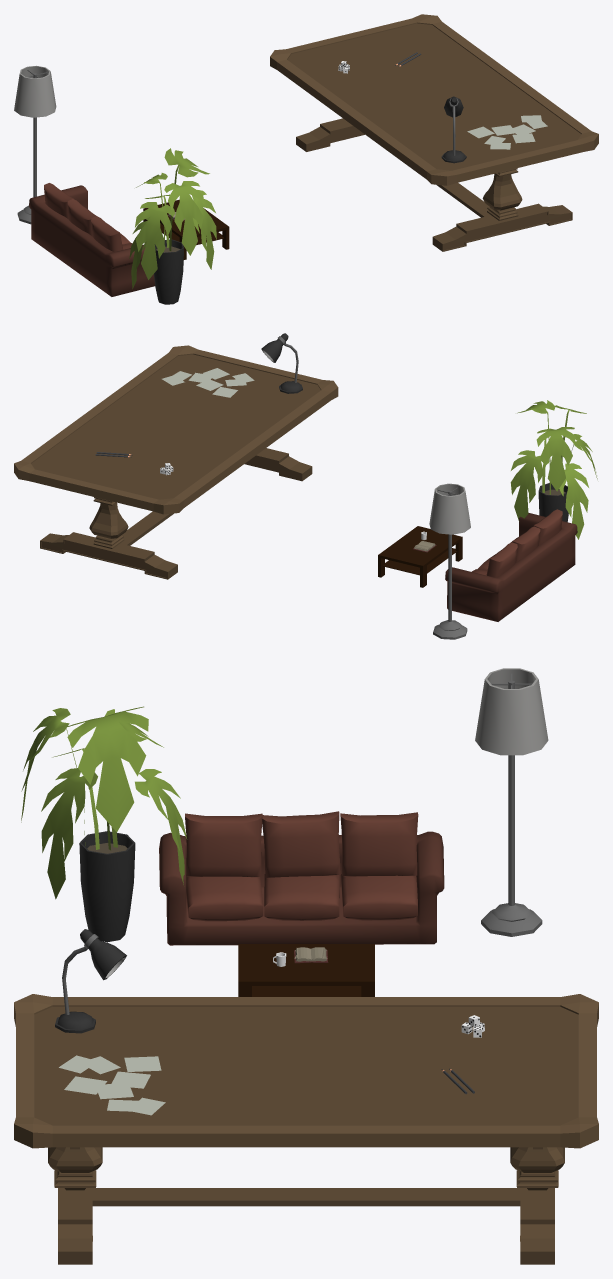
Rendered from envoirment3.0.glb.
3 views of the same model, one above another, from view 1: azimuth 30°, elevation 25°; view 2: azimuth 150°, elevation 25°; view 3: azimuth 270°, elevation 25° (orthographic). The views are drawn at different scales.
Parts seen in each view (by area): view 1: Table2, Couch_Large1, Houseplant_7, Light_Stand1, Debris_Papers_2, Plane, Light_Desk; view 2: Table2, Couch_Large1, Houseplant_7, Light_Stand1, Plane, Debris_Papers_2, Light_Desk; view 3: Table2, Couch_Large1, Houseplant_7, Light_Stand1, Plane, Debris_Papers_2, Light_Desk.
Part boxes in pixels (left/top/right/bottom): Table2: left=270, top=14, right=598, bottom=251; Couch_Large1: left=29, top=183, right=155, bottom=296; Houseplant_7: left=129, top=148, right=216, bottom=304; Light_Stand1: left=14, top=65, right=56, bottom=224; Debris_Papers_2: left=467, top=115, right=547, bottom=149; Plane: left=143, top=199, right=229, bottom=259; Light_Desk: left=441, top=96, right=466, bottom=163; Table2: left=14, top=345, right=338, bottom=579; Couch_Large1: left=445, top=509, right=577, bottom=621; Houseplant_7: left=510, top=400, right=597, bottom=539; Light_Stand1: left=429, top=483, right=470, bottom=639; Plane: left=378, top=526, right=462, bottom=587; Debris_Papers_2: left=162, top=368, right=254, bottom=397; Light_Desk: left=261, top=333, right=302, bottom=393; Table2: left=14, top=994, right=598, bottom=1264; Couch_Large1: left=159, top=811, right=444, bottom=945; Houseplant_7: left=21, top=706, right=187, bottom=942; Light_Stand1: left=475, top=668, right=548, bottom=936; Plane: left=238, top=944, right=374, bottom=996; Debris_Papers_2: left=59, top=1055, right=165, bottom=1115; Light_Desk: left=55, top=929, right=126, bottom=1033.
Size of what is drawn, in the model's own units: 37.88 by 11.95 by 25.17.
22 materials, 1 textured.
